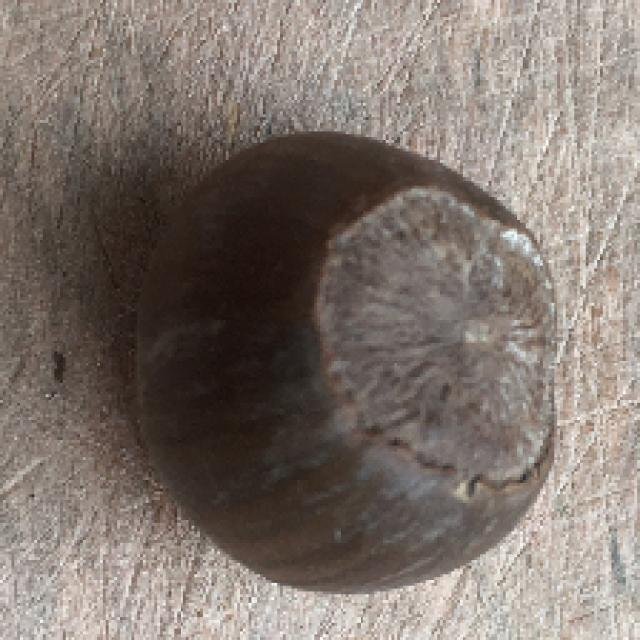damagedHazelnut: (132, 121, 563, 601)
